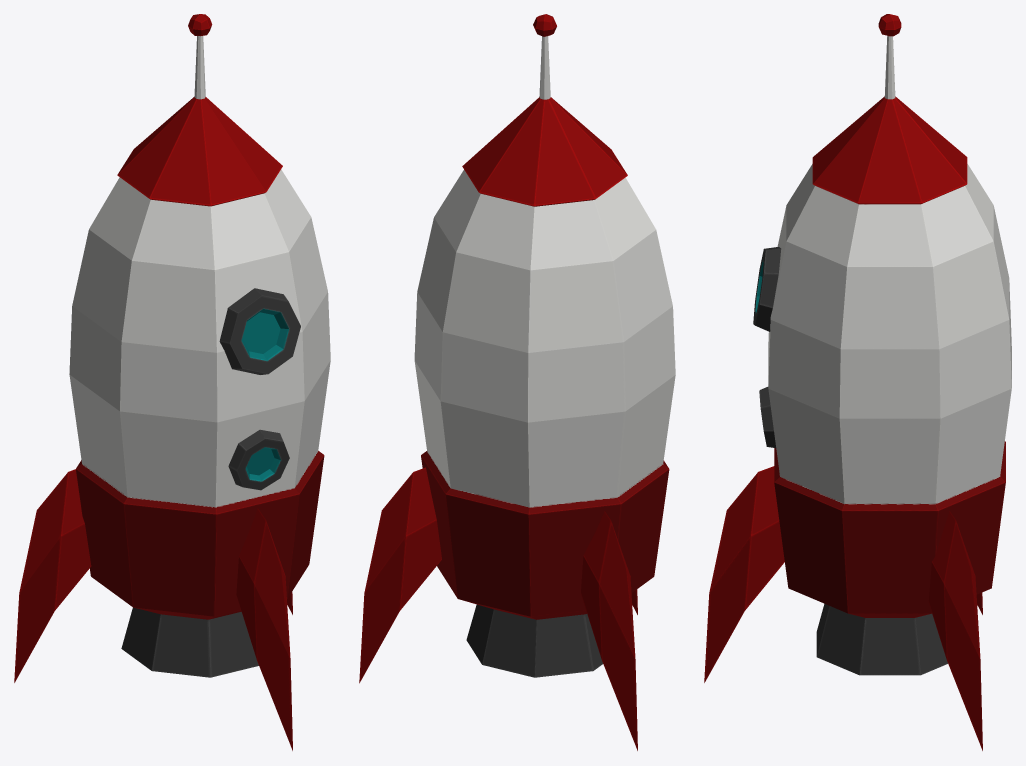
File: rocketship.glb
3 views of the same model, side by side, from view 1: azimuth 30°, elevation 25°; view 2: azimuth 150°, elevation 25°; view 3: azimuth 270°, elevation 25° (orthographic).
Parts seen in each view (by area): view 1: RocketShip_mesh; view 2: RocketShip_mesh; view 3: RocketShip_mesh.
Boxes of the visible parts, left/top/right/bottom form: RocketShip_mesh: left=14, top=14, right=330, bottom=750; RocketShip_mesh: left=359, top=14, right=675, bottom=750; RocketShip_mesh: left=704, top=14, right=1011, bottom=750.
Bounding box in the file's own units: 10.55 × 24.2 × 10.08.
Materials: 1 (1 with a texture image).
